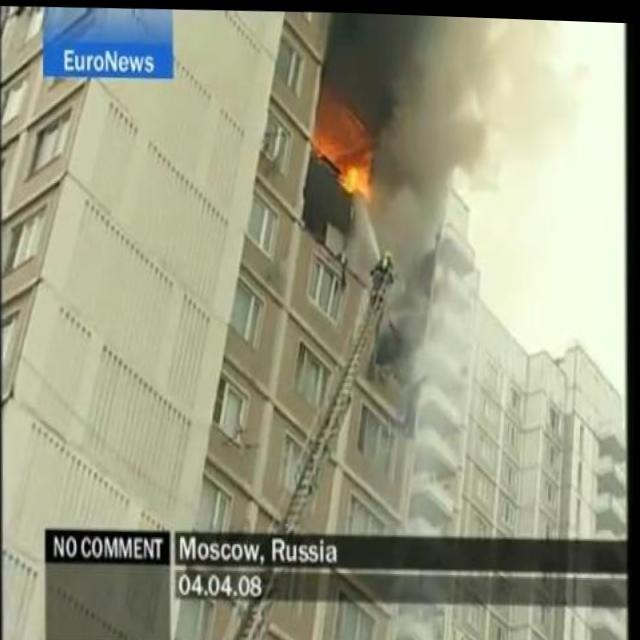fire: (333, 133, 378, 203)
